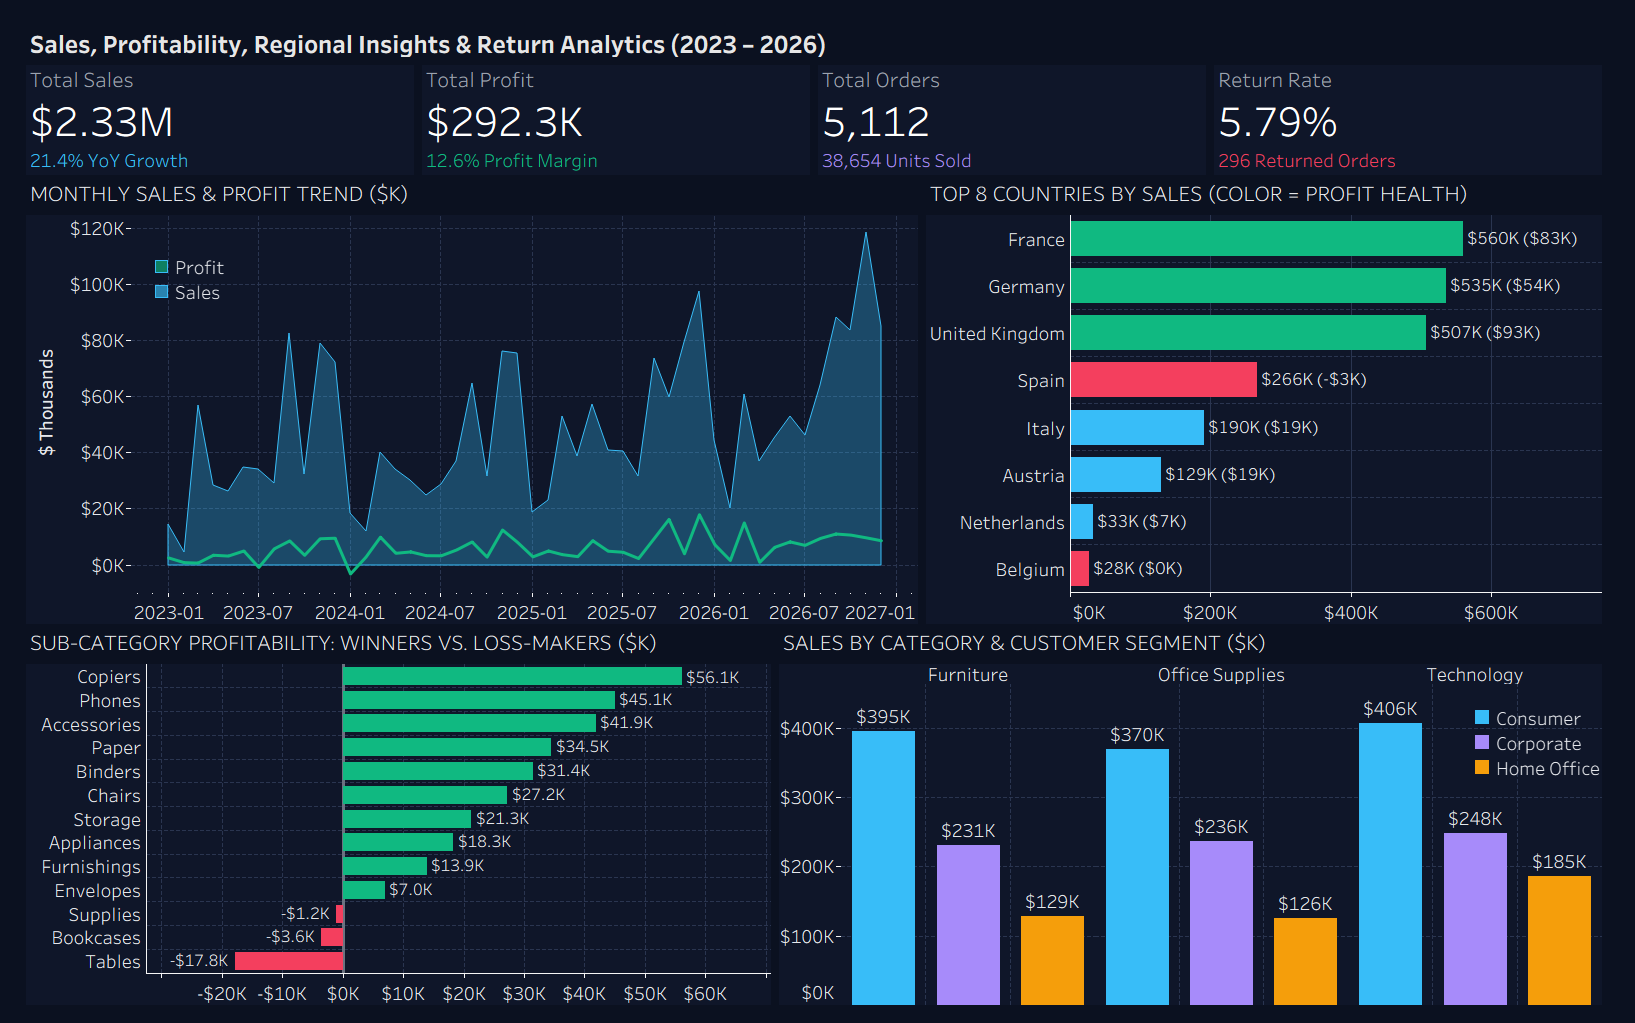

This screenshot's page, from the dashboard's own definition file:
{"tool":"tableau","page":{"name":"Dashboard 1","canvas":[1600,1000],"ordinal":0},"visuals":[{"type":"text","box":[8,8,1584,35.6]},{"type":"worksheet","title":"KPI Banner","mark":"Text","box":[8,43.6,396,118.4]},{"type":"worksheet","title":"KPI Banner (4)","mark":"Text","box":[404,43.6,396,118.4]},{"type":"worksheet","title":"KPI Banner (3)","mark":"Text","box":[800,43.6,396,118.4]},{"type":"worksheet","title":"KPI Banner (2)","mark":"Text","box":[1196,43.6,396,118.4]},{"type":"text","box":[8,162,900,32]},{"type":"text","box":[908,162,684,32]},{"type":"worksheet","title":"Monthly trend","mark":"Automatic","rows":["Sales","Profit"],"cols":["Order Date"],"box":[8,194,900,417]},{"type":"worksheet","title":"Top 8 countries","mark":"Automatic","rows":["Country/Region"],"cols":["Sales"],"box":[908,194,684,417]},{"type":"legend","title":"Monthly trend","param":"[federated.03viez6156czmc16ys1bt1o188zi].[:Measure Names]","box":[135,237,94,59]},{"type":"text","box":[8,611,753,32]},{"type":"text","box":[761,611,831,32]},{"type":"worksheet","title":"Sub-Category Profit","mark":"Automatic","rows":["Sub-Category"],"cols":["Profit"],"box":[8,643,753,348.9]},{"type":"worksheet","title":"Category & Segment","mark":"Automatic","rows":["Sales"],"cols":["Category","Segment"],"box":[761,643,831,349]},{"type":"legend","title":"Category & Segment","param":"[federated.03viez6156czmc16ys1bt1o188zi].[none:Segment:nk]","box":[1456,688,137,80]}]}

Visuals, with their boxes in screenshot pixels (x1, y1, x2, y2), scaled from the page's 1600x1000 canvas onto the 1635x1023 screenshot:
text: select_region(8, 8, 1627, 45)
"KPI Banner" worksheet (Text marks): select_region(8, 45, 413, 166)
"KPI Banner (4)" worksheet (Text marks): select_region(413, 45, 818, 166)
"KPI Banner (3)" worksheet (Text marks): select_region(818, 45, 1222, 166)
"KPI Banner (2)" worksheet (Text marks): select_region(1222, 45, 1627, 166)
text: select_region(8, 166, 928, 198)
text: select_region(928, 166, 1627, 198)
"Monthly trend" worksheet: select_region(8, 198, 928, 625)
"Top 8 countries" worksheet: select_region(928, 198, 1627, 625)
"Monthly trend" legend: select_region(138, 242, 234, 303)
text: select_region(8, 625, 778, 658)
text: select_region(778, 625, 1627, 658)
"Sub-Category Profit" worksheet: select_region(8, 658, 778, 1015)
"Category & Segment" worksheet: select_region(778, 658, 1627, 1015)
"Category & Segment" legend: select_region(1488, 704, 1628, 786)
